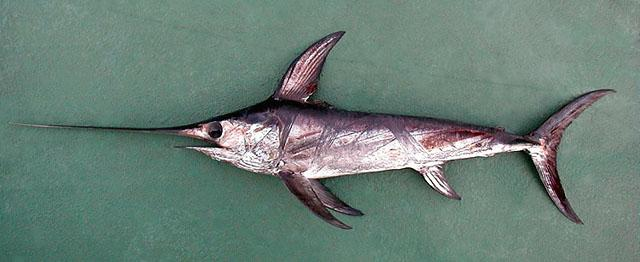Mulut: (5, 105, 241, 181)
Sirip Dada: (272, 160, 374, 236)
Sirip Ekor: (522, 78, 626, 230)
Sirip Perut: (407, 148, 473, 213)
Sirip Punggung: (262, 24, 350, 116)
